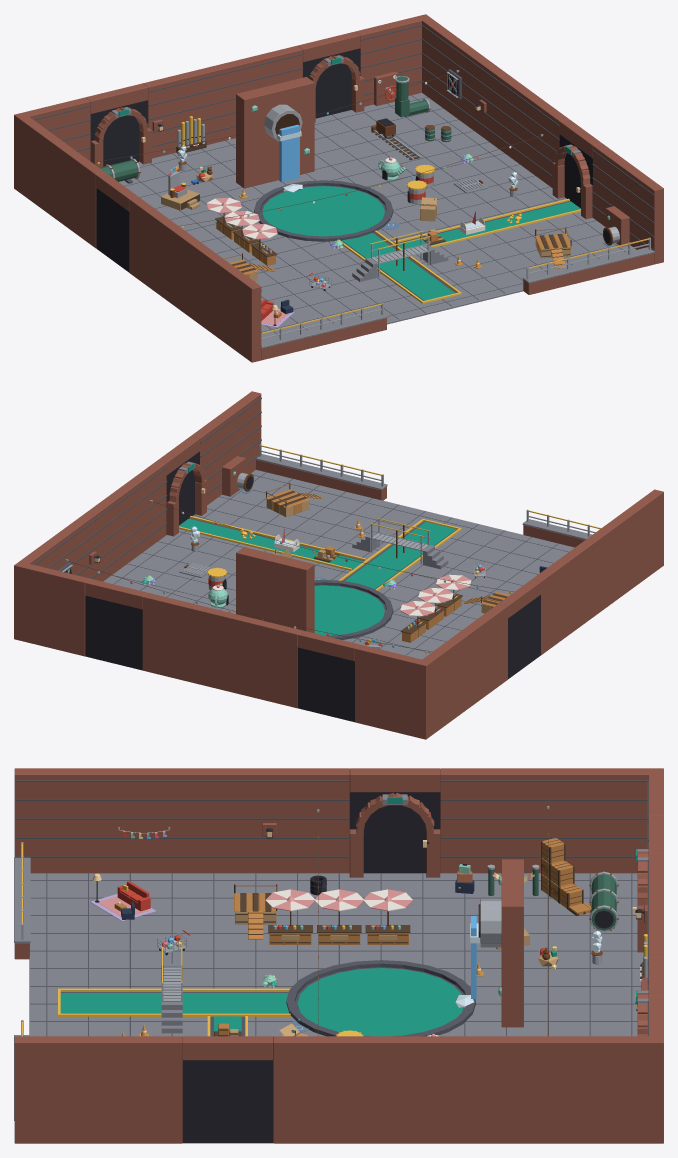
The model's file is CatCafe_Sewer_Set.glb.
3 views of the same model, one above another, from view 1: azimuth 30°, elevation 25°; view 2: azimuth 150°, elevation 25°; view 3: azimuth 270°, elevation 25° (orthographic). The views are drawn at different scales.
Visible parts, largest first — view 1: CatCafe_Sewer_Set, CatCafe_Sewer_Set_000_PipeOutlet, CatCafe_Sewer_Set_005_Catwalk, CatCafe_Sewer_Set_004_TunnelArch, CatCafe_Sewer_Set_001_TunnelArch, CatCafe_Sewer_Set_002_TunnelArch, CatCafe_Sewer_Set_035_CrateDeck, CatCafe_Sewer_Set_006_BottlecapThrone, CatCafe_Sewer_Set_015_DrainPipe, CatCafe_Sewer_Set_024_JunkStall, CatCafe_Sewer_Set_012_PipeElbow, CatCafe_Sewer_Set_039_PipeOrgan (+5 smaller); view 2: CatCafe_Sewer_Set, CatCafe_Sewer_Set_000_PipeOutlet, CatCafe_Sewer_Set_005_Catwalk, CatCafe_Sewer_Set_004_TunnelArch, CatCafe_Sewer_Set_035_CrateDeck, CatCafe_Sewer_Set_015_DrainPipe, CatCafe_Sewer_Set_026_JunkStall, CatCafe_Sewer_Set_024_JunkStall, CatCafe_Sewer_Set_025_JunkStall; view 3: CatCafe_Sewer_Set, CatCafe_Sewer_Set_000_PipeOutlet, CatCafe_Sewer_Set_003_TunnelArch, CatCafe_Sewer_Set_023_CrateStack, CatCafe_Sewer_Set_026_JunkStall, CatCafe_Sewer_Set_024_JunkStall, CatCafe_Sewer_Set_025_JunkStall, CatCafe_Sewer_Set_005_Catwalk, CatCafe_Sewer_Set_034_CrateDeck, CatCafe_Sewer_Set_011_PipeLarge, CatCafe_Sewer_Set_033_LostLounge, CatCafe_Sewer_Set_001_TunnelArch.
Part boxes in pixels (x1,y1,x2,y2): CatCafe_Sewer_Set: (14,14,663,362); CatCafe_Sewer_Set_000_PipeOutlet: (236,77,314,192); CatCafe_Sewer_Set_005_Catwalk: (352,231,448,281); CatCafe_Sewer_Set_004_TunnelArch: (552,144,592,219); CatCafe_Sewer_Set_001_TunnelArch: (91,107,151,167); CatCafe_Sewer_Set_002_TunnelArch: (309,55,364,122); CatCafe_Sewer_Set_035_CrateDeck: (535,227,571,268); CatCafe_Sewer_Set_006_BottlecapThrone: (161,166,199,210); CatCafe_Sewer_Set_015_DrainPipe: (603,206,629,247); CatCafe_Sewer_Set_024_JunkStall: (242,224,277,265); CatCafe_Sewer_Set_012_PipeElbow: (395,76,430,117); CatCafe_Sewer_Set_039_PipeOrgan: (176,116,206,153); CatCafe_Sewer_Set: (14,391,663,739); CatCafe_Sewer_Set_000_PipeOutlet: (236,547,314,633); CatCafe_Sewer_Set_005_Catwalk: (352,518,448,569); CatCafe_Sewer_Set_004_TunnelArch: (167,461,206,536); CatCafe_Sewer_Set_035_CrateDeck: (266,483,323,517); CatCafe_Sewer_Set_015_DrainPipe: (222,456,253,496); CatCafe_Sewer_Set_026_JunkStall: (400,601,435,642); CatCafe_Sewer_Set_024_JunkStall: (436,574,471,616); CatCafe_Sewer_Set_025_JunkStall: (418,588,453,629); CatCafe_Sewer_Set: (14,768,663,1143); CatCafe_Sewer_Set_000_PipeOutlet: (455,859,523,1027); CatCafe_Sewer_Set_003_TunnelArch: (349,793,440,877); CatCafe_Sewer_Set_023_CrateStack: (541,837,591,915); CatCafe_Sewer_Set_026_JunkStall: (363,889,413,944); CatCafe_Sewer_Set_024_JunkStall: (265,889,315,944); CatCafe_Sewer_Set_025_JunkStall: (315,889,363,944); CatCafe_Sewer_Set_005_Catwalk: (161,947,182,1033); CatCafe_Sewer_Set_034_CrateDeck: (234,884,277,939); CatCafe_Sewer_Set_011_PipeLarge: (589,871,618,931); CatCafe_Sewer_Set_033_LostLounge: (90,881,155,921); CatCafe_Sewer_Set_001_TunnelArch: (635,849,648,952).
Size of the model in its own units: 93.2 by 19.6 by 93.3.
Materials: 1 (1 with a texture image).
